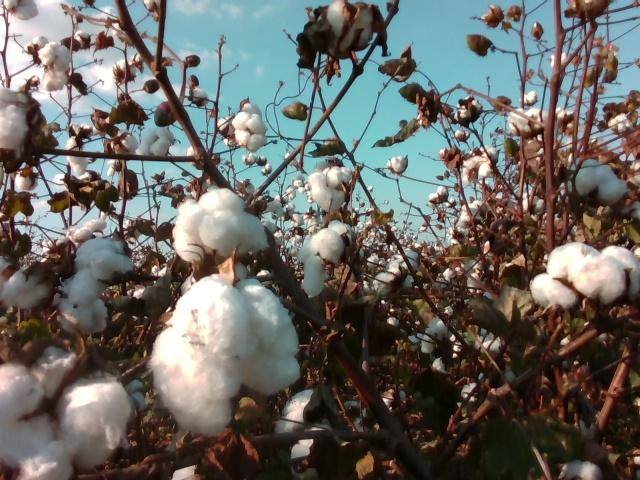cotton_ready: (148, 274, 302, 438), (0, 344, 134, 480), (54, 236, 135, 338), (172, 186, 272, 264), (531, 242, 640, 312), (299, 218, 357, 297), (566, 155, 629, 208), (322, 0, 377, 56), (0, 260, 51, 316), (0, 88, 38, 159), (271, 386, 321, 436), (289, 424, 332, 480), (371, 248, 419, 294), (309, 164, 355, 211), (233, 113, 268, 152), (509, 106, 554, 134), (136, 125, 175, 157), (556, 460, 604, 480)
